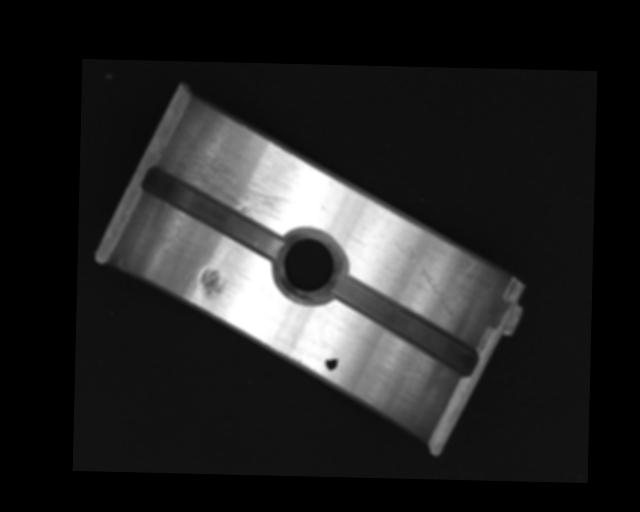blot: (324, 356, 338, 371)
bruise: (199, 267, 226, 297)
gap: (332, 275, 481, 376), (139, 165, 285, 256)
hole: (274, 226, 345, 305)
nick: (392, 240, 459, 321)
scratch: (165, 123, 311, 222)
